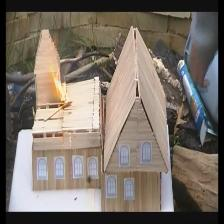fire: (52, 69, 66, 100)
